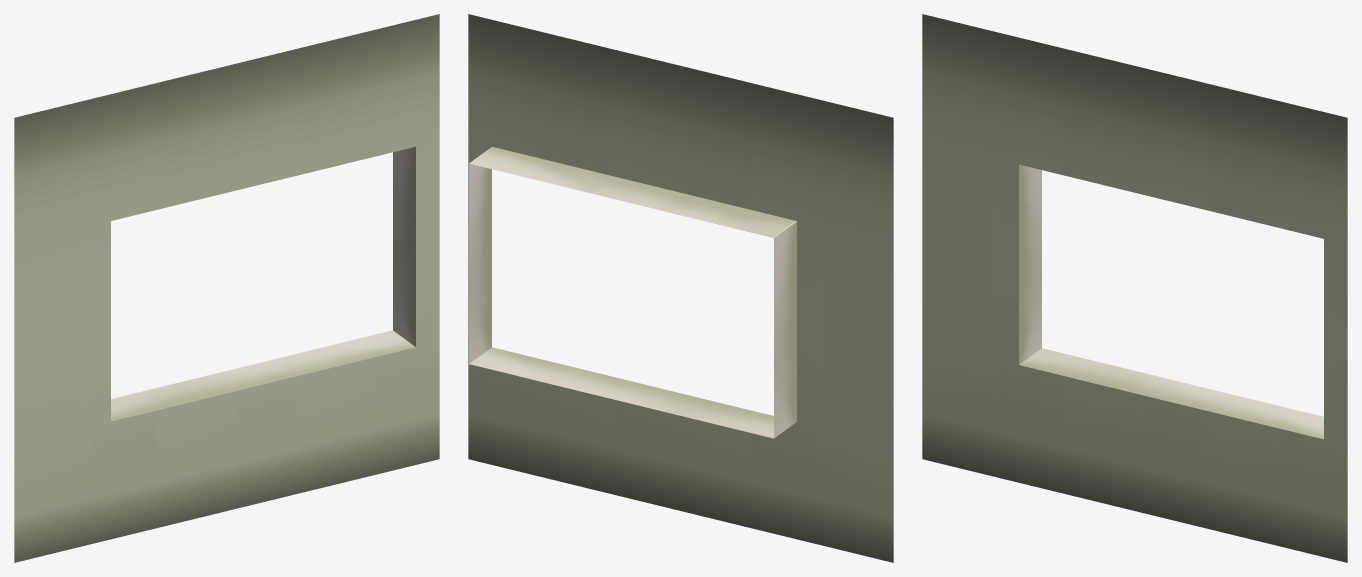
The model's file is walls_kitchen_window.fbx.
3 renders of one model, left to right at view 1: azimuth 30°, elevation 25°; view 2: azimuth 150°, elevation 25°; view 3: azimuth 330°, elevation 25°, orthographic.
Visible parts, largest first — view 1: walls_garage_halls_kitchen.005; view 2: walls_garage_halls_kitchen.005; view 3: walls_garage_halls_kitchen.005.
Part boxes in pixels (x1,y1,x2,y2): walls_garage_halls_kitchen.005: (14, 14, 439, 562); walls_garage_halls_kitchen.005: (468, 14, 893, 562); walls_garage_halls_kitchen.005: (922, 14, 1347, 562).
Bounding box in the file's own units: 3 × 3 × 0.2824.
1 material, 1 textured.
